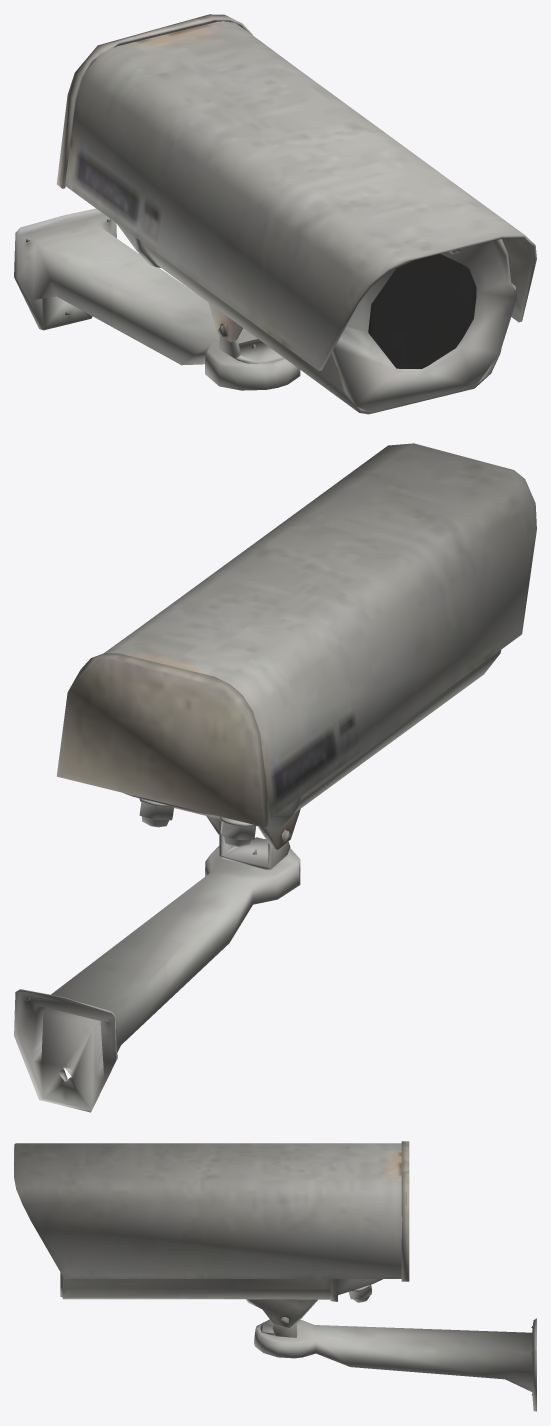
File: security_camera_01.glb
3 views of the same model, one above another, from view 1: azimuth 30°, elevation 25°; view 2: azimuth 150°, elevation 25°; view 3: azimuth 270°, elevation 25° (orthographic). The views are drawn at different scales.
Parts seen in each view (by area): view 1: security_camera_01; view 2: security_camera_01; view 3: security_camera_01.
Boxes of the visible parts, x1,y1,x2,y2 form: security_camera_01: (14, 14, 536, 414); security_camera_01: (14, 443, 536, 1112); security_camera_01: (14, 1141, 536, 1411).
Bounding box in the file's own units: 0.1696 × 0.2848 × 0.5536.
Materials: 2 (2 with a texture image).
